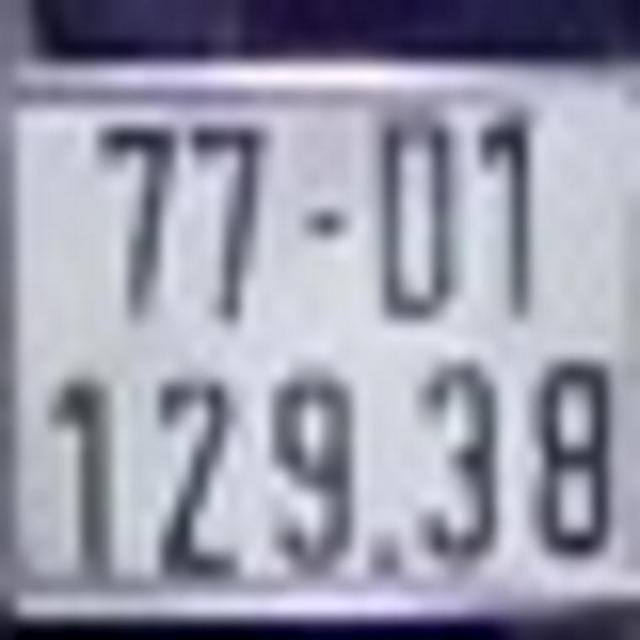1: (48, 380, 115, 590), (481, 117, 540, 326)
2: (150, 376, 240, 578)
3: (419, 364, 496, 559)
7: (94, 118, 176, 332), (187, 123, 260, 336)
8: (538, 358, 611, 556)
9: (272, 372, 355, 574)
D: (372, 112, 452, 326)
